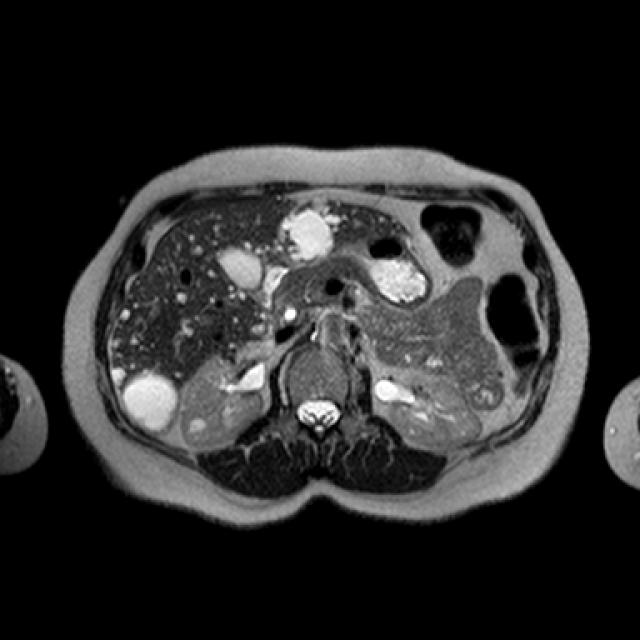sag: (183, 353, 265, 447)
sol: (389, 372, 482, 449)
